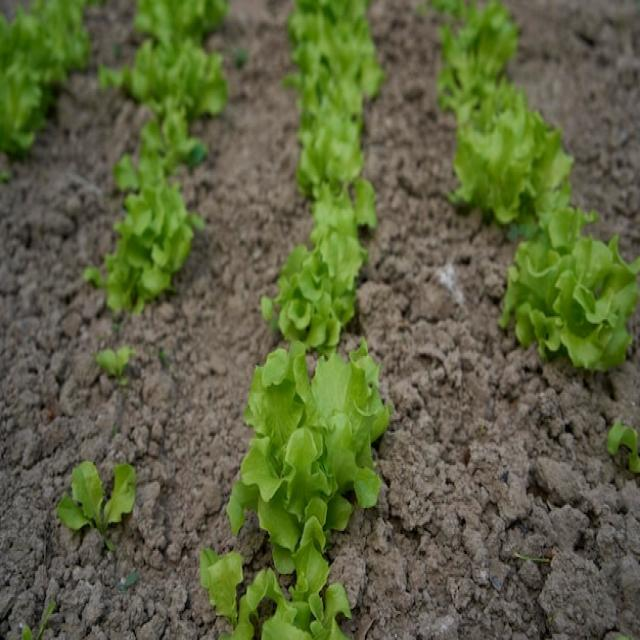inmadura: (228, 339, 391, 571), (499, 206, 639, 370), (105, 169, 202, 312), (262, 229, 366, 353)
verde: (56, 460, 136, 549)
